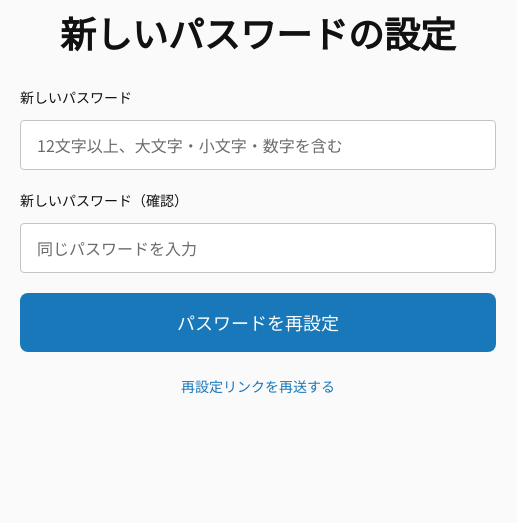
Test case: ResetPasswordForm › 無効なトークンのエラーを表示する
The image size is (517, 523).
In the password field labelled "新しいパスワード": (258, 145) top-left (20, 120), bottom-right (496, 170), type "NewPassword1"
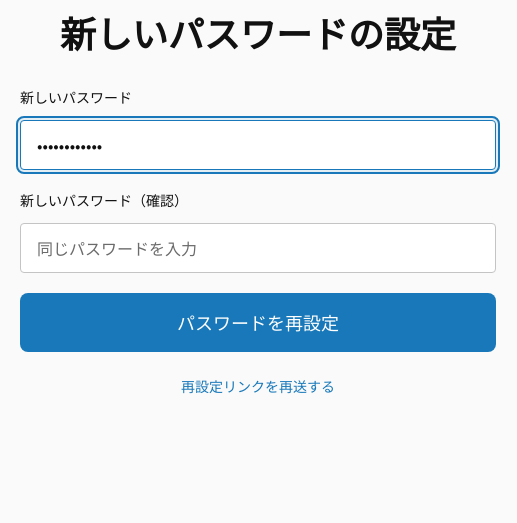
In the password field labelled "新しいパスワード（確認）": (258, 248) top-left (20, 223), bottom-right (496, 273), type "NewPassword1"
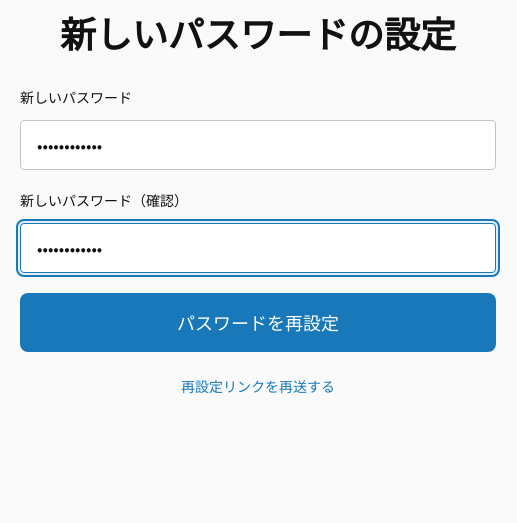
Click the button "パスワードを再設定": (258, 322) top-left (20, 293), bottom-right (496, 352)
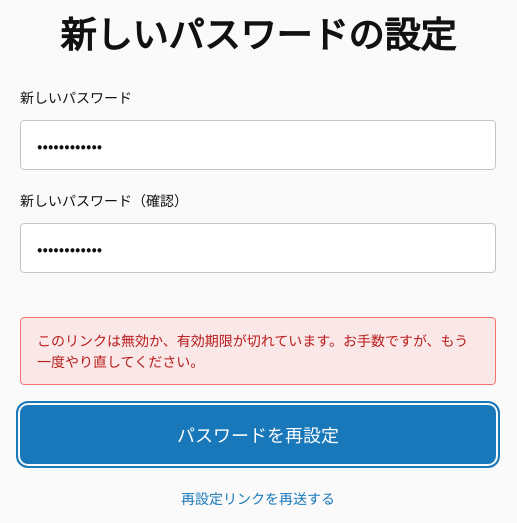
Now the message reads "このリンクは無効か、有効期限が切れています。お手数ですが、もう一度やり直してください。", box top-left (37, 330), bottom-right (468, 371)
